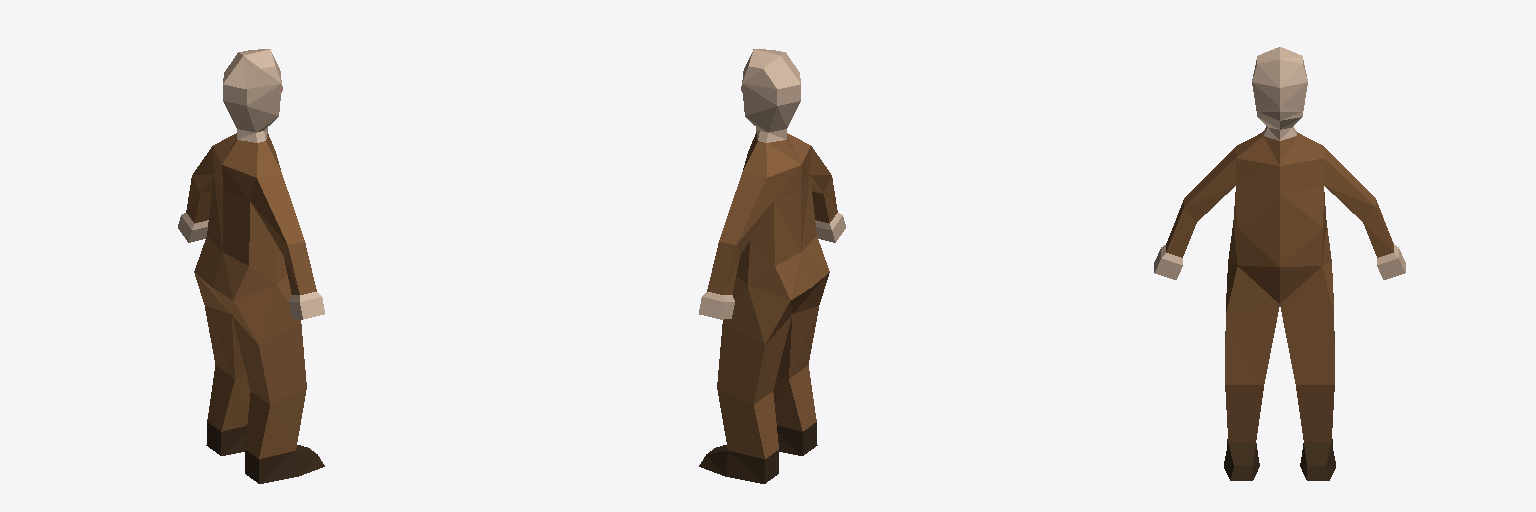
3 views of the same model, side by side, from view 1: azimuth 30°, elevation 25°; view 2: azimuth 150°, elevation 25°; view 3: azimuth 270°, elevation 25° (orthographic).
Visible parts, largest first — view 1: Person_Cube; view 2: Person_Cube; view 3: Person_Cube.
Part boxes in pixels (x1,y1,x2,y2): Person_Cube: (178, 49, 324, 483); Person_Cube: (699, 49, 845, 483); Person_Cube: (1154, 47, 1405, 480).
Bounding box in the file's own units: 1.21 × 5.3 × 2.97.
1 materials, 1 textured.